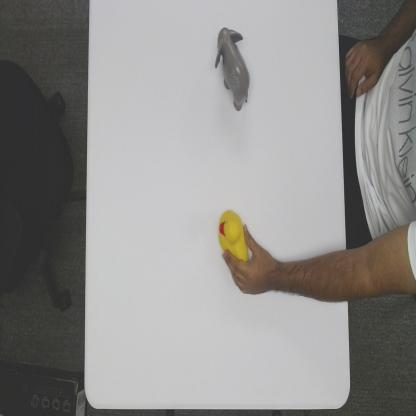Arm: (277, 247, 349, 303)
Duck: (217, 206, 249, 266)
Elephant: (214, 26, 251, 113)
Hand: (221, 223, 276, 296)
